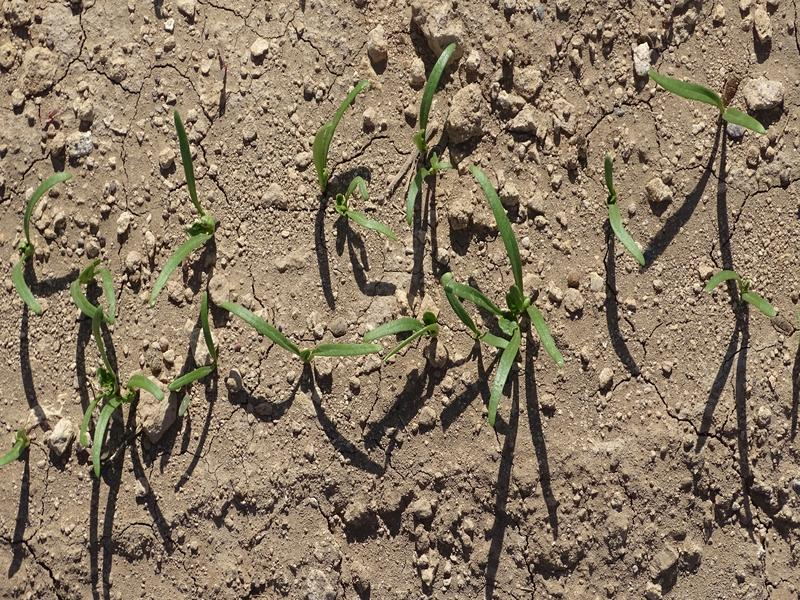Espinaca: (445, 167, 562, 418), (284, 43, 447, 222), (14, 175, 122, 315), (71, 316, 154, 468), (150, 120, 229, 273), (217, 299, 373, 365), (652, 66, 764, 142), (603, 153, 648, 266), (700, 263, 777, 318), (181, 294, 214, 389), (380, 312, 439, 359)
